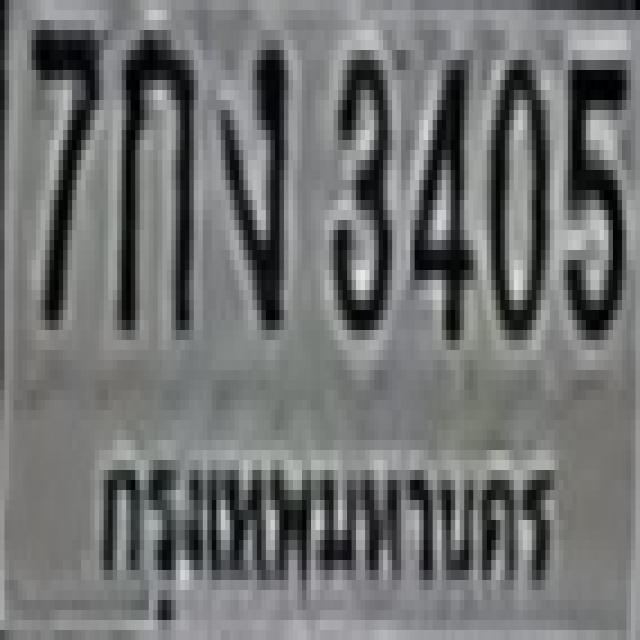-: (113, 20, 189, 320), (216, 30, 284, 320)
0: (487, 50, 545, 330)
3: (329, 40, 388, 320)
4: (410, 50, 469, 330)
5: (563, 50, 622, 330)
7: (27, 20, 95, 320)
BKK: (86, 417, 559, 632)
